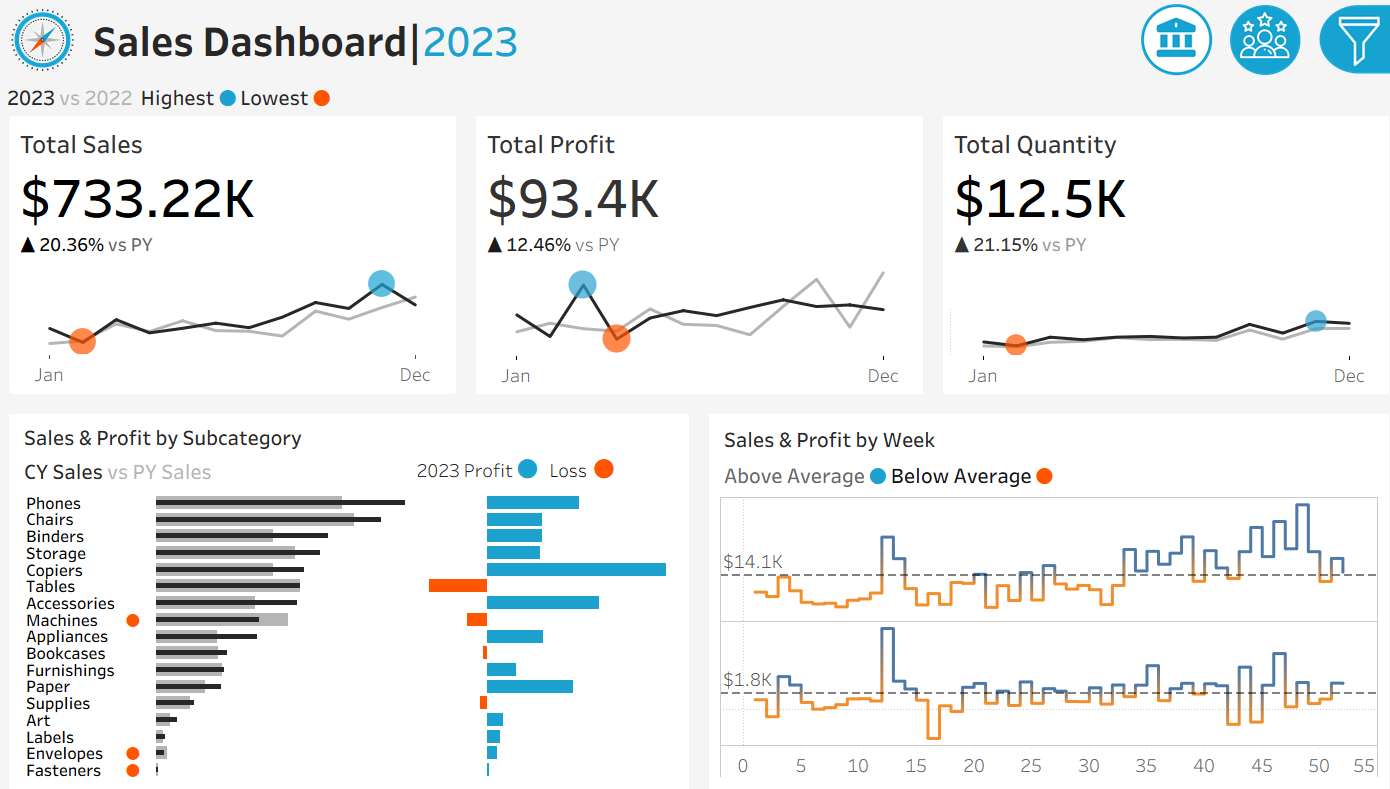

The page's visual inventory and layout, read from the dashboard file:
{"tool":"tableau","page":{"name":"Sales Dashboard","canvas":[1400,800],"ordinal":1},"visuals":[{"type":"image","param":"Image/Icon - Logo.png","box":[0,0,86,81]},{"type":"text","box":[86,0,1047,81]},{"type":"dashboard-object","box":[1133,0,89,81]},{"type":"dashboard-object","box":[1222,0,89,81]},{"type":"dashboard-object","box":[1311,0,89,81]},{"type":"worksheet","title":"Legend KPIs","mark":"Automatic","box":[0,81,1400,36]},{"type":"blank","box":[1153,105,227,79]},{"type":"worksheet","title":"KPI Sales","mark":"Line","rows":["Calculation_1154511034646538"],"cols":["Order Date"],"box":[0,117,467,288]},{"type":"worksheet","title":"KPI Profit","mark":"Line","rows":["Calculation_0276276414558214"],"cols":["Order Date"],"box":[467,117,467,288]},{"type":"worksheet","title":"KPI Quantity","mark":"Automatic","rows":["Calculation_0276276459741200"],"cols":["Order Date"],"box":[934,117,466,288]},{"type":"text","box":[1153,184,227,33]},{"type":"parameter","param":"[Parameters].[Parameter 1154511013814272]","box":[1153,217,227,60]},{"type":"blank","box":[1153,277,227,103]},{"type":"text","box":[1153,380,227,33]},{"type":"filter","title":"KPI Sales","param":"[federated.13z85u015viy7p0zvxib415emt4u].[none:Region:nk]","box":[1153,413,227,61]},{"type":"text","box":[17,422,666,32]},{"type":"text","box":[717,422,666,36]},{"type":"text","box":[17,454,333,37]},{"type":"text","box":[350,454,333,37]},{"type":"text","box":[717,458,666,36]},{"type":"filter","title":"KPI Sales","param":"[federated.13z85u015viy7p0zvxib415emt4u].[none:State:nk]","box":[1153,474,227,61]},{"type":"worksheet","title":"Sales/Profit by Subcategory","mark":"Bar","rows":["Sub-Category","Calculation_0276276470558739"],"cols":["Calculation_1154511014662146","Calculation_1154511017480196","Calculation_0276276412223491"],"box":[17,491,666,292]},{"type":"worksheet","title":"Weekly Trends","mark":"Automatic","rows":["Calculation_1154511017480196","Calculation_0276276412223491"],"cols":["Order Date"],"box":[717,494,666,289]},{"type":"filter","title":"KPI Sales","param":"[federated.13z85u015viy7p0zvxib415emt4u].[none:City:nk]","box":[1153,535,227,61]},{"type":"blank","box":[1153,596,227,32]},{"type":"text","box":[1153,628,227,33]},{"type":"filter","title":"KPI Sales","param":"[federated.13z85u015viy7p0zvxib415emt4u].[none:Category:nk]","box":[1153,661,227,61]},{"type":"filter","title":"KPI Sales","param":"[federated.13z85u015viy7p0zvxib415emt4u].[none:Sub-Category:nk]","box":[1153,722,227,61]}]}

Visuals, with their boxes in screenshot pixels (x1, y1, x2, y2), scaled from the page's 1400x800 canvas onto the 1390x789 screenshot:
image: detection(0, 0, 85, 80)
text: detection(85, 0, 1125, 80)
dashboard-object: detection(1125, 0, 1213, 80)
dashboard-object: detection(1213, 0, 1302, 80)
dashboard-object: detection(1302, 0, 1389, 80)
"Legend KPIs" worksheet: detection(0, 80, 1389, 115)
blank: detection(1145, 104, 1370, 181)
"KPI Sales" worksheet (Line marks): detection(0, 115, 464, 399)
"KPI Profit" worksheet (Line marks): detection(464, 115, 927, 399)
"KPI Quantity" worksheet: detection(927, 115, 1389, 399)
text: detection(1145, 181, 1370, 214)
parameter: detection(1145, 214, 1370, 273)
blank: detection(1145, 273, 1370, 375)
text: detection(1145, 375, 1370, 407)
"KPI Sales" filter: detection(1145, 407, 1370, 467)
text: detection(17, 416, 678, 448)
text: detection(712, 416, 1373, 452)
text: detection(17, 448, 348, 484)
text: detection(348, 448, 678, 484)
text: detection(712, 452, 1373, 487)
"KPI Sales" filter: detection(1145, 467, 1370, 528)
"Sales/Profit by Subcategory" worksheet (Bar marks): detection(17, 484, 678, 772)
"Weekly Trends" worksheet: detection(712, 487, 1373, 772)
"KPI Sales" filter: detection(1145, 528, 1370, 588)
blank: detection(1145, 588, 1370, 619)
text: detection(1145, 619, 1370, 652)
"KPI Sales" filter: detection(1145, 652, 1370, 712)
"KPI Sales" filter: detection(1145, 712, 1370, 772)
